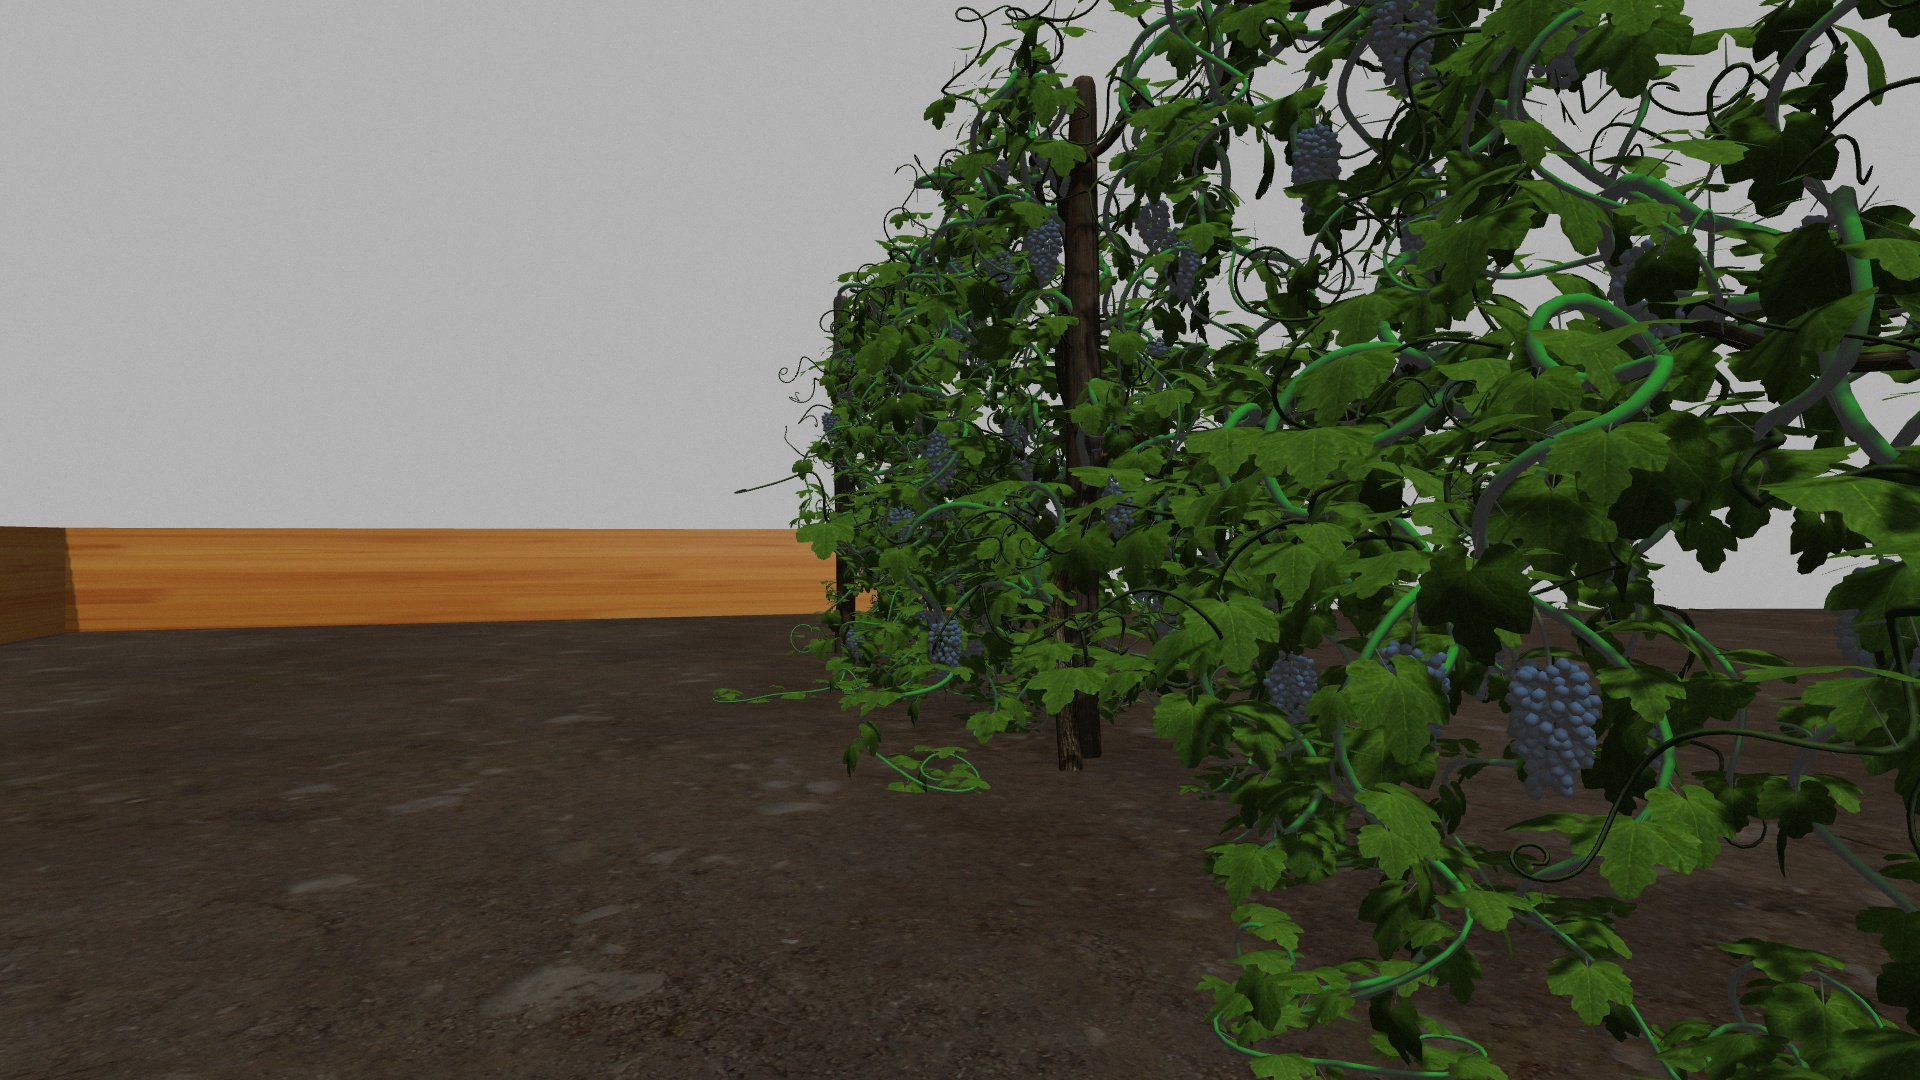grape: (1505, 655, 1602, 810), (1365, 11, 1441, 95), (1263, 654, 1319, 729), (1291, 117, 1342, 198), (1027, 215, 1063, 284), (1166, 233, 1200, 303), (927, 617, 967, 670), (924, 429, 959, 489), (1102, 485, 1135, 539), (1135, 199, 1171, 247), (986, 252, 1015, 287), (822, 411, 840, 435)
